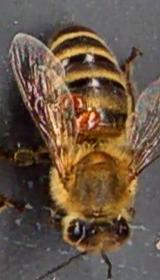varroa_mite: (62, 88, 96, 114), (75, 108, 108, 132)
